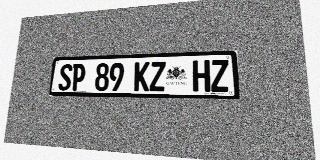8: (94, 63, 110, 91)
9: (109, 62, 124, 91)
H: (193, 60, 210, 92)
K: (134, 62, 150, 91)
P: (71, 64, 86, 91)
S: (58, 64, 73, 91)
Z: (210, 60, 229, 92), (149, 61, 166, 91)
